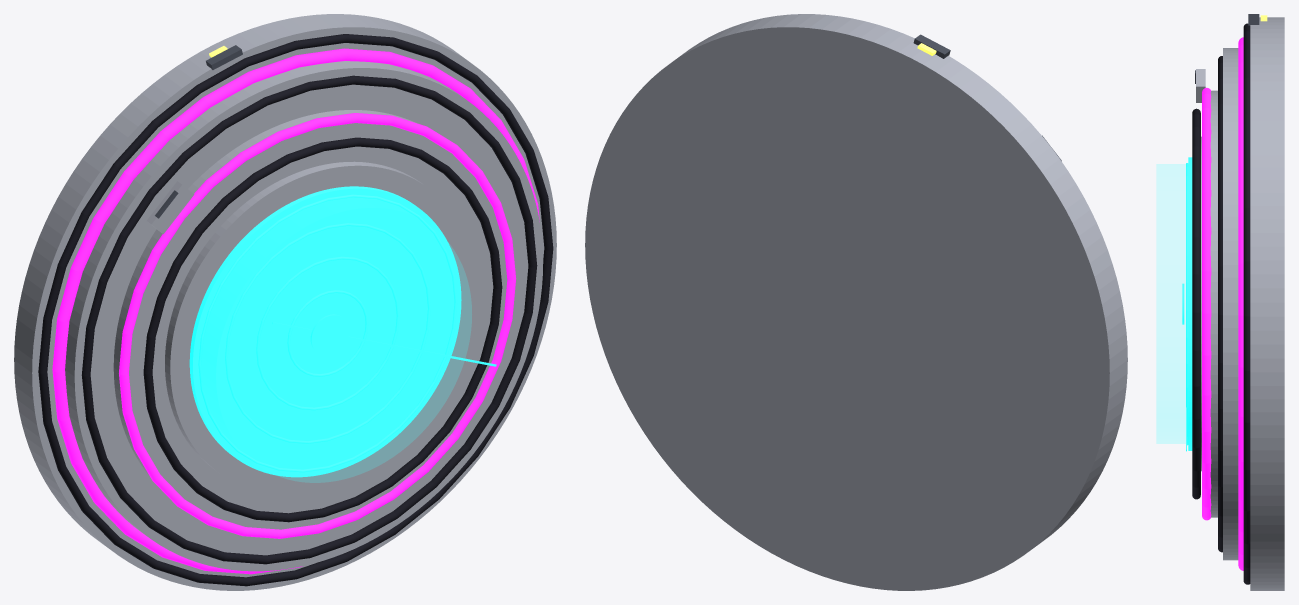
File: galaxy_projector_base.glb
3 renders of one model, left to right at view 1: azimuth 30°, elevation 25°; view 2: azimuth 150°, elevation 25°; view 3: azimuth 270°, elevation 25°, orthographic. The views are drawn at different scales.
Parts seen in each view (by area): view 1: subtle low blue glow volume above emitter, flat glowing cyan-blue projector emitter disk, middle raised circular tier, upper shallow metal tier, lower circular metal plinth, top emitter support ring, thin dark groove around base wall, thin dark groove above middle tier, upper magenta neon light band, outer magenta neon light band, thin dark groove below glass, cyan etched concentric emitter ring 0.82 (+5 smaller); view 2: lower circular metal plinth; view 3: lower circular metal plinth, middle raised circular tier, subtle low blue glow volume above emitter, thin dark groove around base wall, upper magenta neon light band, thin dark groove below glass, outer magenta neon light band, upper shallow metal tier, thin dark groove above middle tier, flat glowing cyan-blue projector emitter disk, cyan etched concentric emitter ring 0.82, top emitter support ring (+1 smaller).
Part boxes in pixels (bbox=[...]): subtle low blue glow volume above emitter: bbox=[201, 197, 471, 482]; flat glowing cyan-blue projector emitter disk: bbox=[189, 186, 461, 477]; middle raised circular tier: bbox=[65, 61, 543, 571]; upper shallow metal tier: bbox=[113, 110, 507, 529]; lower circular metal plinth: bbox=[14, 14, 556, 590]; top emitter support ring: bbox=[165, 161, 476, 494]; thin dark groove around base wall: bbox=[38, 34, 553, 586]; thin dark groove above middle tier: bbox=[81, 75, 537, 564]; upper magenta neon light band: bbox=[119, 113, 516, 538]; outer magenta neon light band: bbox=[52, 48, 539, 574]; thin dark groove below glass: bbox=[143, 137, 502, 522]; cyan etched concentric emitter ring 0.82: bbox=[198, 194, 457, 472]; lower circular metal plinth: bbox=[585, 14, 1127, 590]; lower circular metal plinth: bbox=[1250, 17, 1284, 590]; middle raised circular tier: bbox=[1223, 48, 1238, 560]; subtle low blue glow volume above emitter: bbox=[1157, 164, 1185, 443]; thin dark groove around base wall: bbox=[1243, 23, 1250, 584]; upper magenta neon light band: bbox=[1202, 87, 1211, 520]; thin dark groove below glass: bbox=[1192, 108, 1200, 499]; outer magenta neon light band: bbox=[1238, 37, 1243, 570]; upper shallow metal tier: bbox=[1210, 90, 1217, 517]; thin dark groove above middle tier: bbox=[1218, 56, 1222, 552]; flat glowing cyan-blue projector emitter disk: bbox=[1188, 157, 1192, 450]; cyan etched concentric emitter ring 0.82: bbox=[1186, 163, 1188, 445]; top emitter support ring: bbox=[1201, 136, 1201, 471].
Size of the model in its own units: 3.36 by 3.36 by 0.75.
